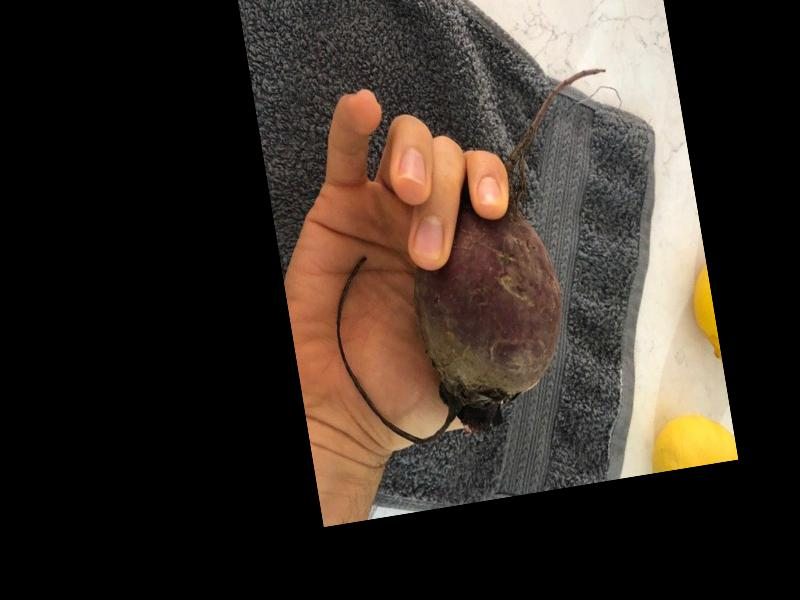Beet: (301, 67, 659, 451)
